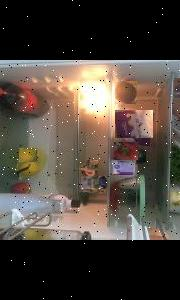Ajo: (80, 165, 94, 178)
Guacamole: (86, 160, 97, 170)
Lechuga/Endivia: (171, 153, 180, 184)
Limón: (18, 148, 36, 162)
Mango: (114, 81, 136, 104)
Manzana: (9, 182, 30, 194)
Nata: (79, 176, 106, 192), (172, 78, 180, 98)
Pimiento: (113, 142, 137, 160)
Queso: (114, 110, 152, 138)
Yogur: (110, 160, 134, 175)
